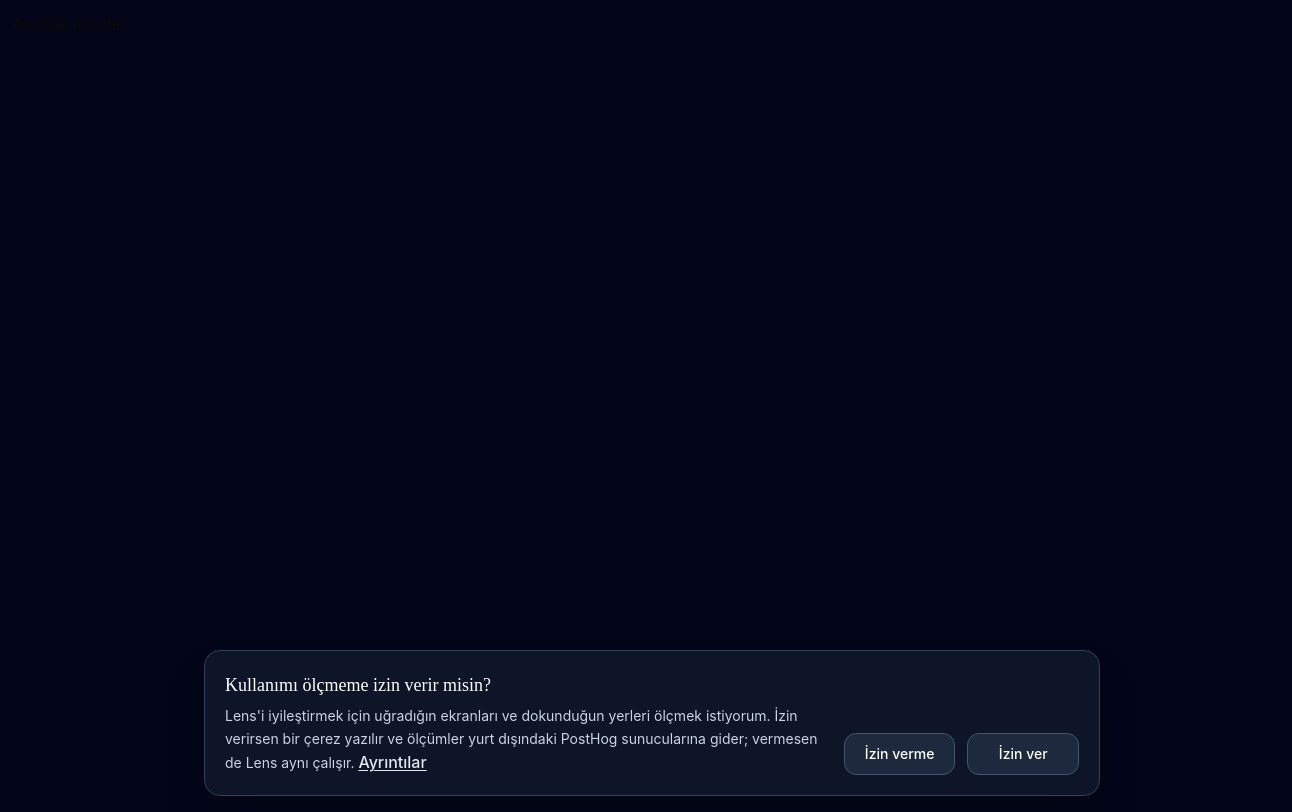
karar verilmemişken › 'Ayrıntılar' ikinci katmanı açar; orada Çerez Politikası'na bağlantı vardır
Click the button "Ayrıntılar".
click(392, 762)  # box top-left (358, 750), bottom-right (427, 774)
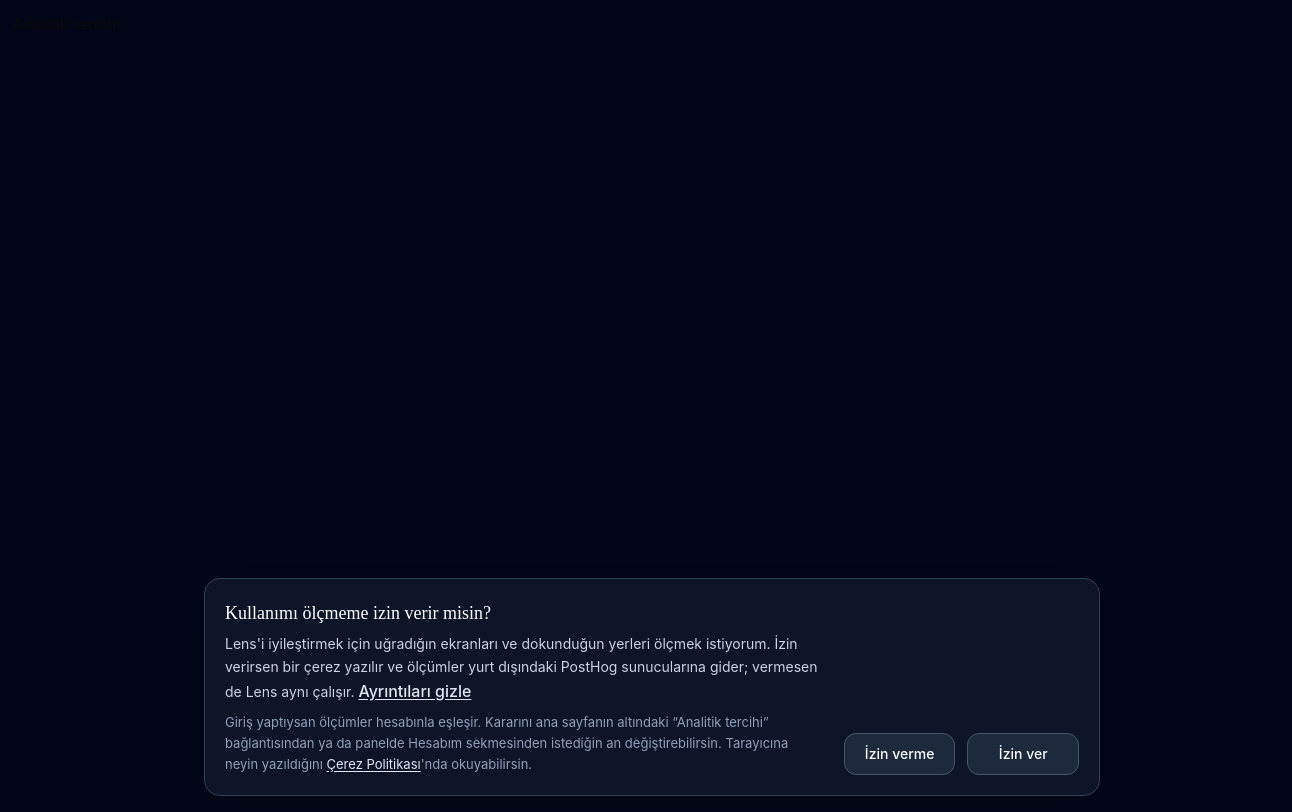
Now the link to "/cookies" reads "Çerez Politikası", box top-left (326, 756), bottom-right (421, 772)
Now the button "Ayrıntıları gizle" is expanded, box top-left (358, 679), bottom-right (471, 703)
Now the text "istediğin an değiştirebilirsin" is shown, box top-left (225, 714), bottom-right (788, 772)
